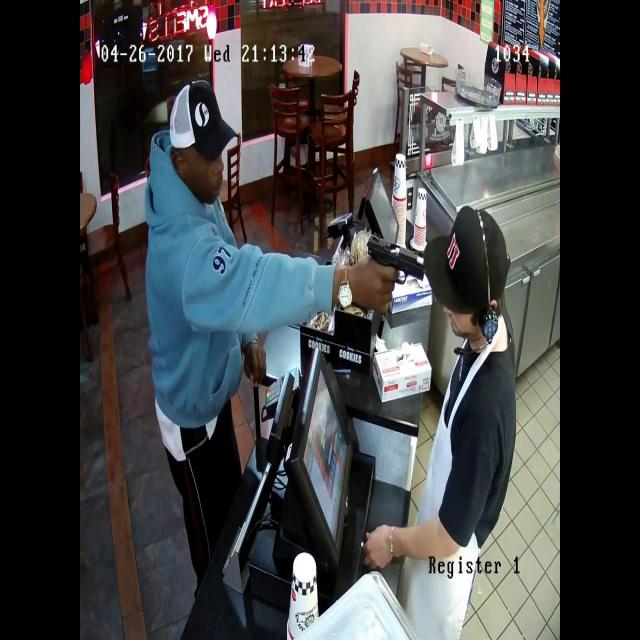gun: (350, 216, 431, 298)
